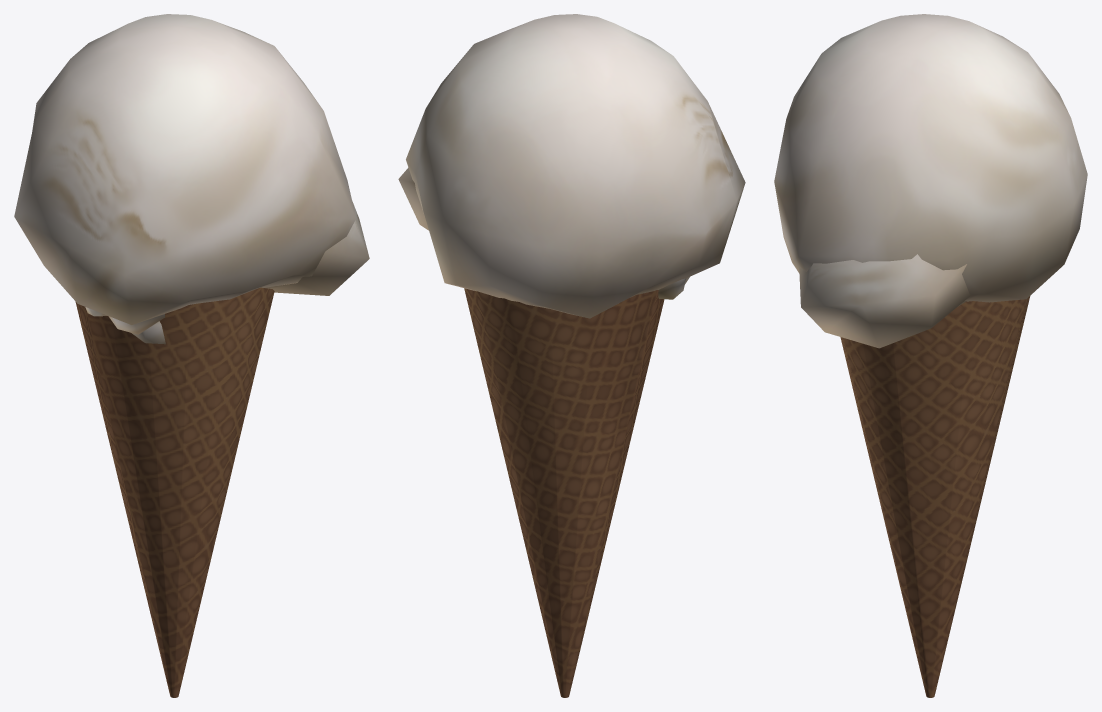
The model's file is icecreamvanilla.fbx.
The picture shows the model from 3 angles, left to right: view 1: azimuth 30°, elevation 25°; view 2: azimuth 150°, elevation 25°; view 3: azimuth 270°, elevation 25°; orthographic projection.
Parts seen in each view (by area): view 1: icecreamvanilla; view 2: icecreamvanilla; view 3: icecreamvanilla.
Boxes of the visible parts, x1=… form: icecreamvanilla: x1=14, y1=14, x2=369, y2=697; icecreamvanilla: x1=398, y1=14, x2=745, y2=697; icecreamvanilla: x1=774, y1=14, x2=1087, y2=697.
Size of the model in its own units: 24.93 by 50.37 by 21.42.
